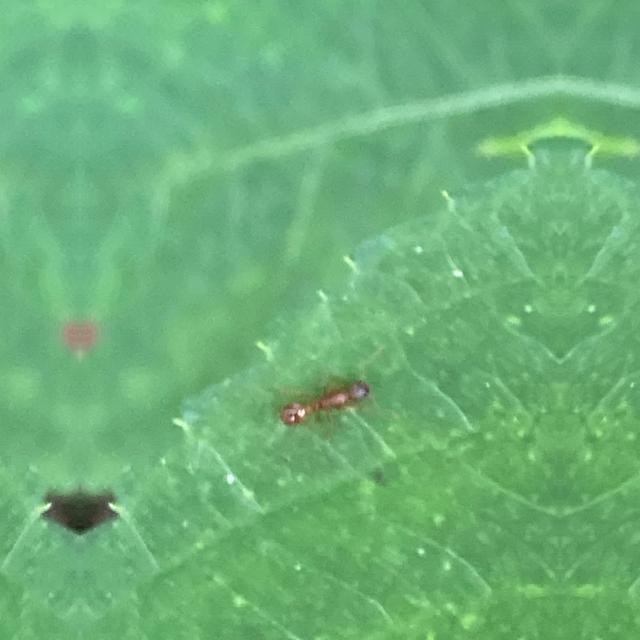Myrmica: (270, 351, 382, 441)
